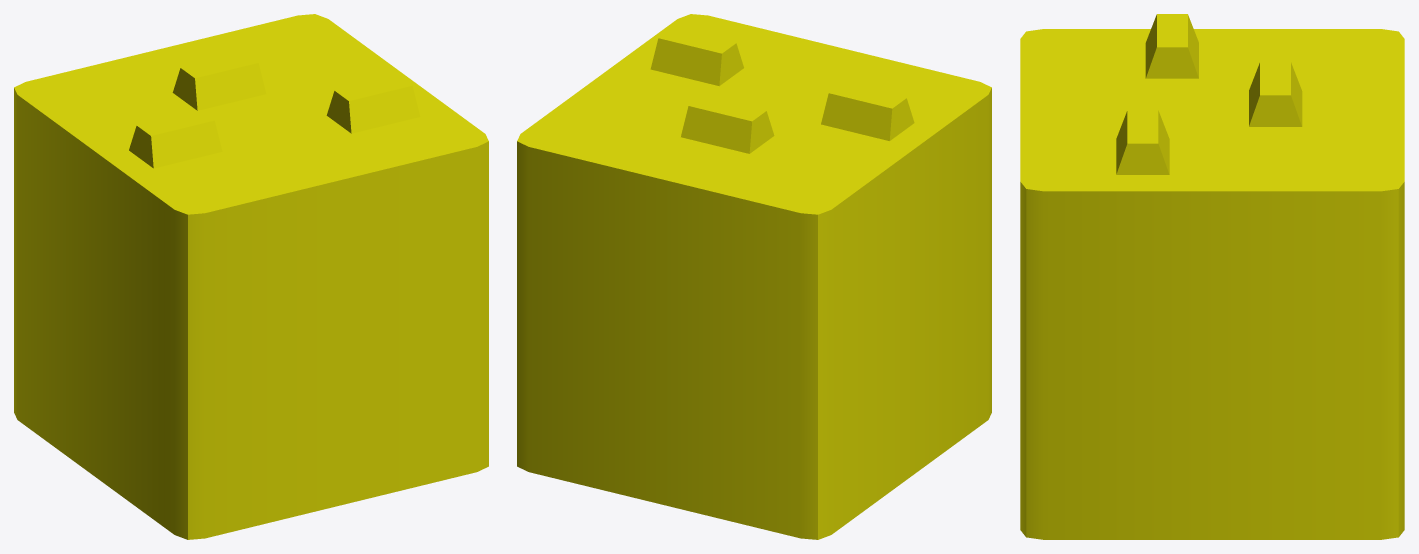
Rendered from mixer.glb.
3 views of the same model, side by side, from view 1: azimuth 30°, elevation 25°; view 2: azimuth 150°, elevation 25°; view 3: azimuth 270°, elevation 25° (orthographic). The views are drawn at different scales.
Visible parts, largest first — view 1: mixer; view 2: mixer; view 3: mixer.
Boxes of the visible parts, x1=… form: mixer: x1=14, y1=14, x2=488, y2=539; mixer: x1=517, y1=14, x2=991, y2=539; mixer: x1=1020, y1=14, x2=1404, y2=539.
Size of the model in its own units: 0.9 by 0.9778 by 0.9.
